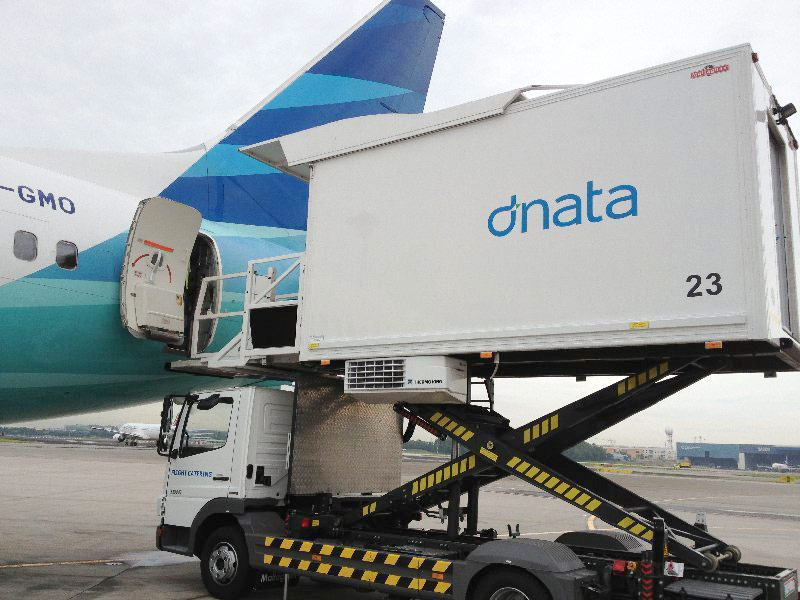Catering truck: (108, 35, 794, 575)
